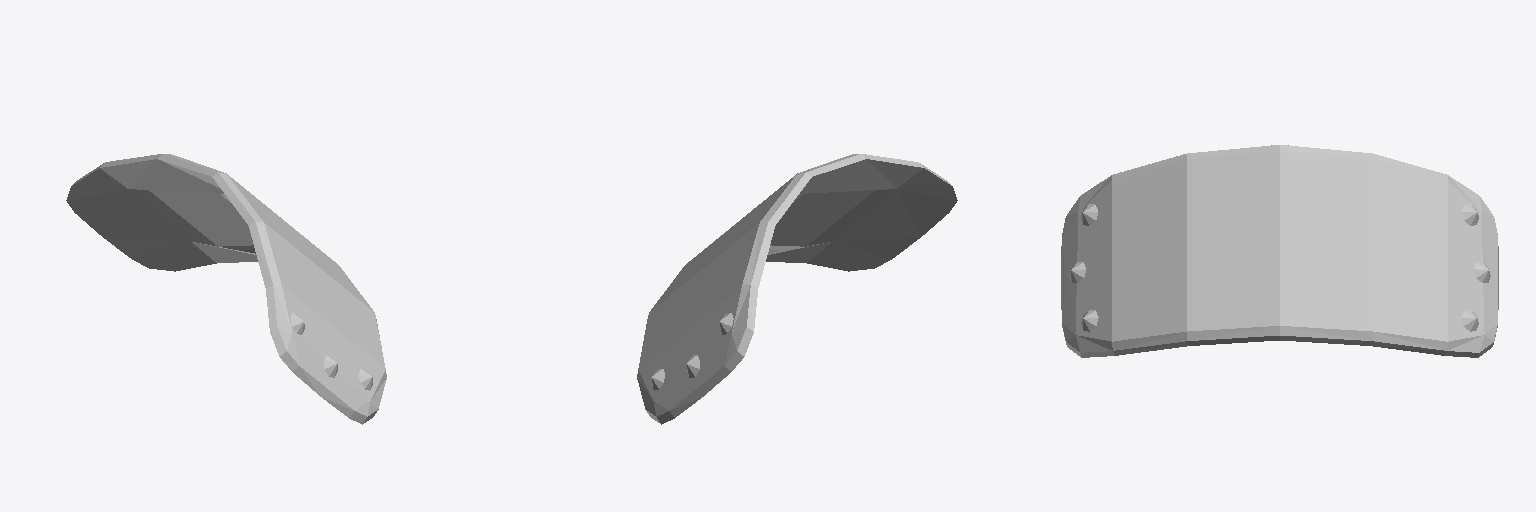
The model's file is ShikamaruArmBand.obj.
The picture shows the model from 3 angles: view 1: azimuth 30°, elevation 25°; view 2: azimuth 150°, elevation 25°; view 3: azimuth 270°, elevation 25°; orthographic projection.
Parts seen in each view (by area): view 1: 5_Upper_Body_1_0_0; view 2: 5_Upper_Body_1_0_0; view 3: 5_Upper_Body_1_0_0.
Boxes of the visible parts, x1,y1,x2,y2 form: 5_Upper_Body_1_0_0: [66, 154, 386, 424]; 5_Upper_Body_1_0_0: [637, 154, 957, 424]; 5_Upper_Body_1_0_0: [1061, 145, 1498, 357].
Bounding box in the file's own units: 0.0525 × 0.0545 × 0.1166.